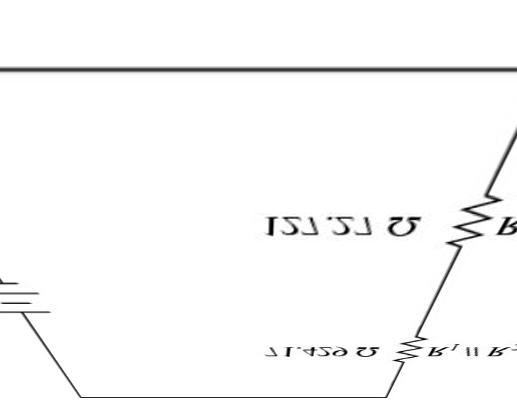resistor: (448, 174, 500, 256), (392, 324, 428, 377)
